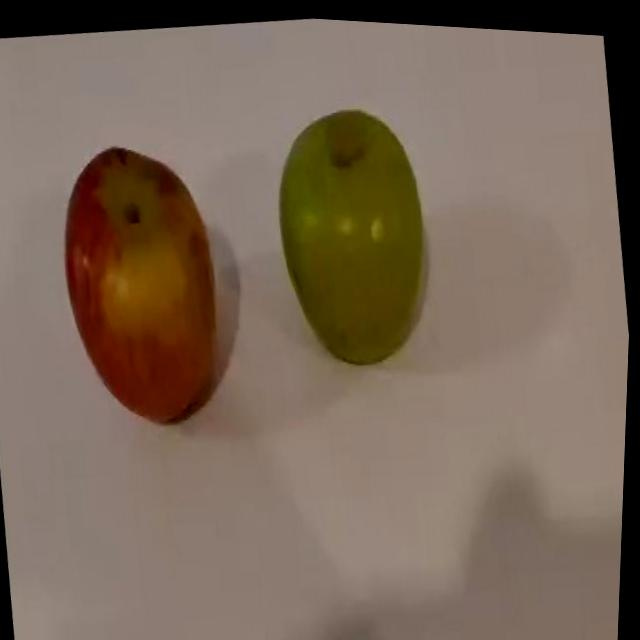Apple: (47, 130, 238, 435), (262, 91, 445, 372)
